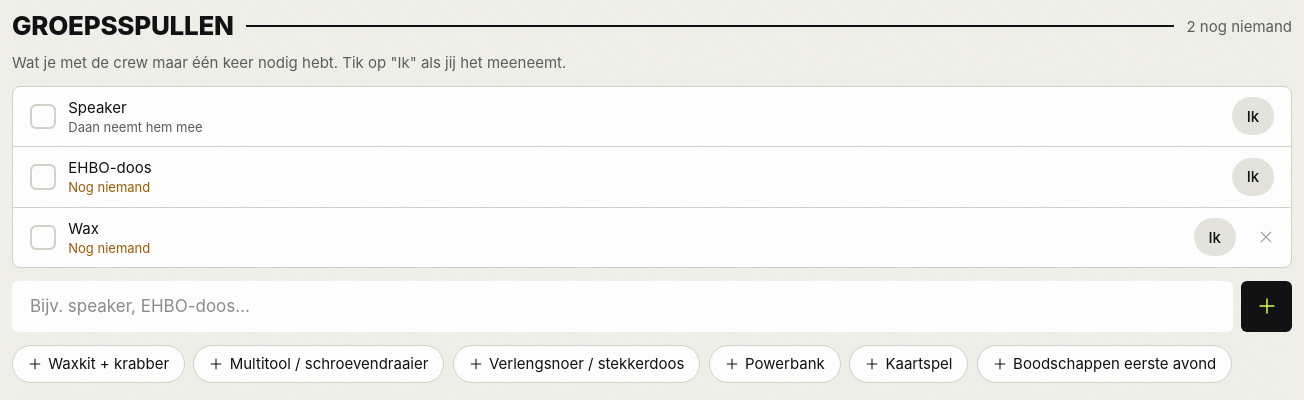
Test case: groepslijst › afvinken werkt voor iedereen in de crew
What coordinates should you click on to do the following:
click the checkbox labelled "Speaker Daan neemt hem mee"
I would click on:
 (97, 107)
Its box is [13,86,1228,146].
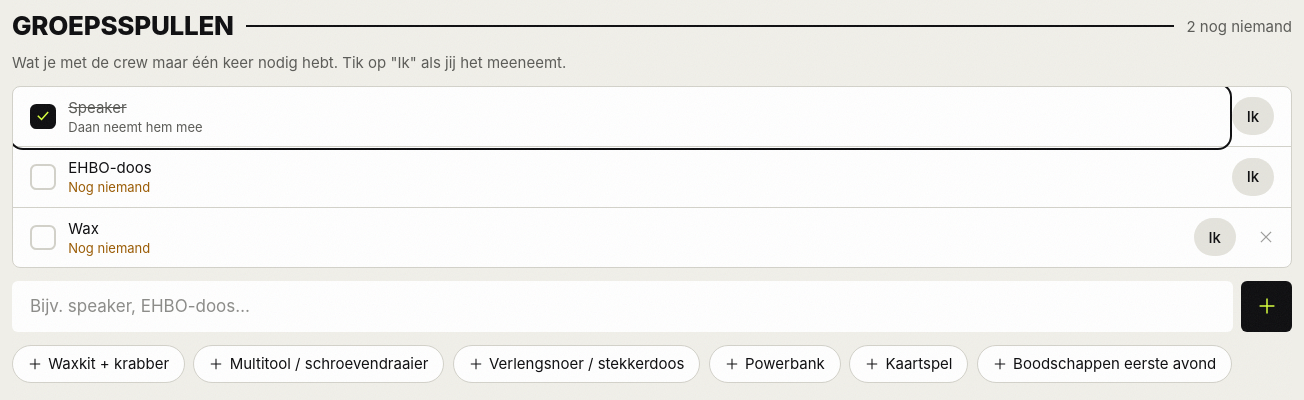
Check: the checkbox labelled "Speaker Daan neemt hem mee" is checked, box [13,86,1228,146]
